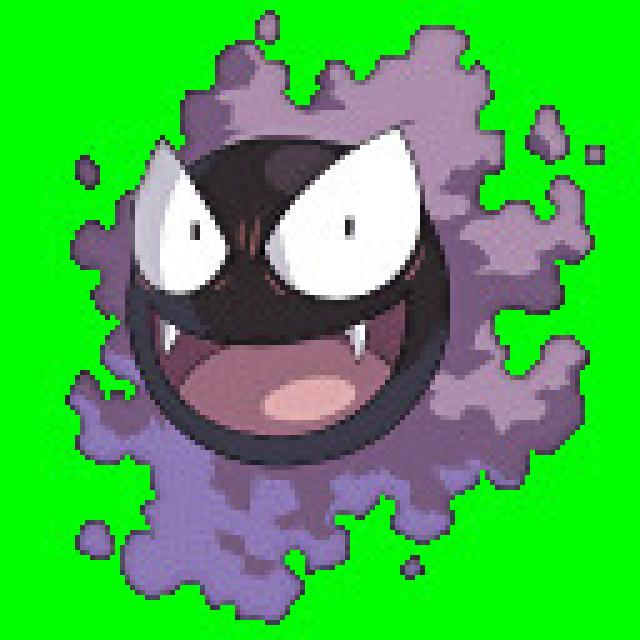Gastly: (86, 35, 533, 549)
